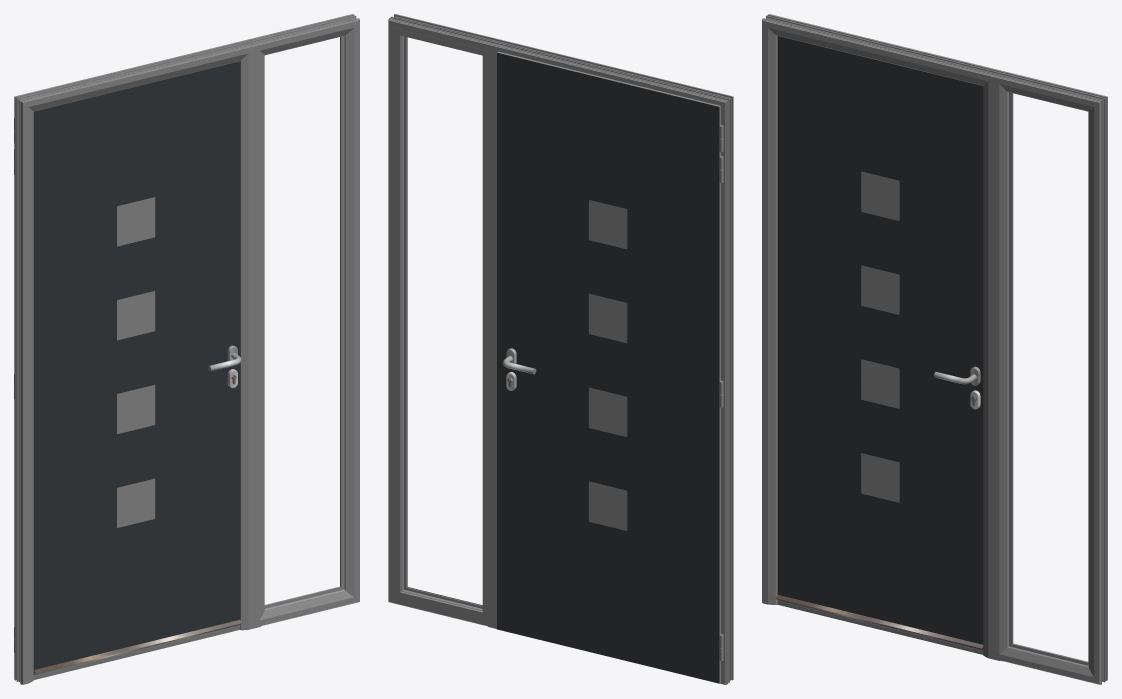
The picture shows the model from 3 angles, left to right: view 1: azimuth 30°, elevation 25°; view 2: azimuth 150°, elevation 25°; view 3: azimuth 330°, elevation 25°; orthographic projection.
Visible parts, largest first — view 1: bloco_148, Rectangle002, Line004, Vidro Porta, Object, Object001, Line005, Rectangle005, Rectangle003; view 2: bloco_148, Rectangle002, Rectangle003, Vidro Porta, Line004, Object001, Rectangle004, Object; view 3: bloco_148, Rectangle002, Line004, Vidro Porta, Object001, Object, Line005, Rectangle003, Rectangle005.
Part boxes in pixels (x1,y1,x2,y2): bloco_148: [33, 61, 240, 671]; Rectangle002: [14, 14, 359, 684]; Line004: [240, 46, 264, 630]; Vidro Porta: [117, 197, 155, 527]; Object: [33, 35, 346, 680]; Object001: [264, 36, 344, 608]; Line005: [33, 620, 242, 674]; Rectangle005: [33, 625, 240, 679]; Rectangle003: [264, 37, 340, 605]; bloco_148: [497, 52, 719, 683]; Rectangle002: [388, 14, 733, 684]; Rectangle003: [394, 28, 487, 619]; Vidro Porta: [589, 200, 627, 530]; Line004: [488, 41, 504, 628]; Object001: [401, 36, 482, 610]; Rectangle004: [496, 51, 720, 683]; Object: [404, 36, 482, 608]; bloco_148: [777, 36, 983, 644]; Rectangle002: [762, 14, 1107, 684]; Line004: [983, 77, 1007, 661]; Vidro Porta: [861, 171, 899, 502]; Object001: [1007, 92, 1088, 665]; Object: [776, 35, 1088, 667]; Line005: [775, 595, 983, 649]; Rectangle003: [1012, 93, 1087, 662]; Rectangle005: [777, 600, 983, 654].
Size of the model in its own units: 1307 by 2150 by 192.
Materials: 7 (4 with a texture image).
